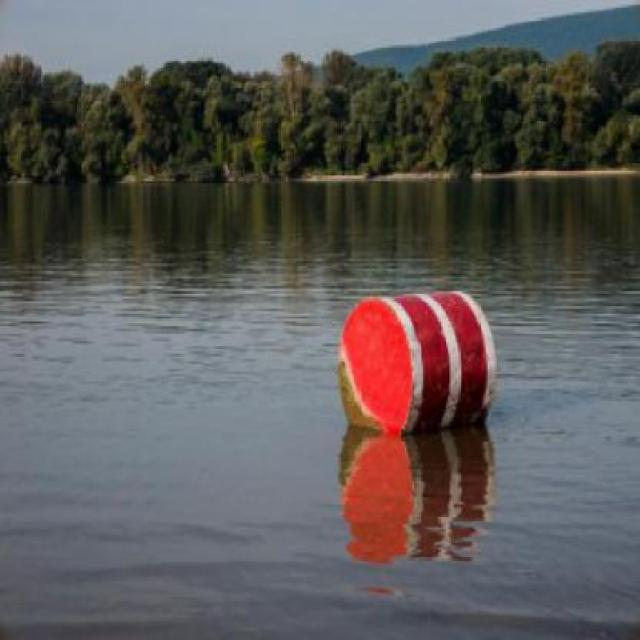a: (321, 264, 507, 450)
